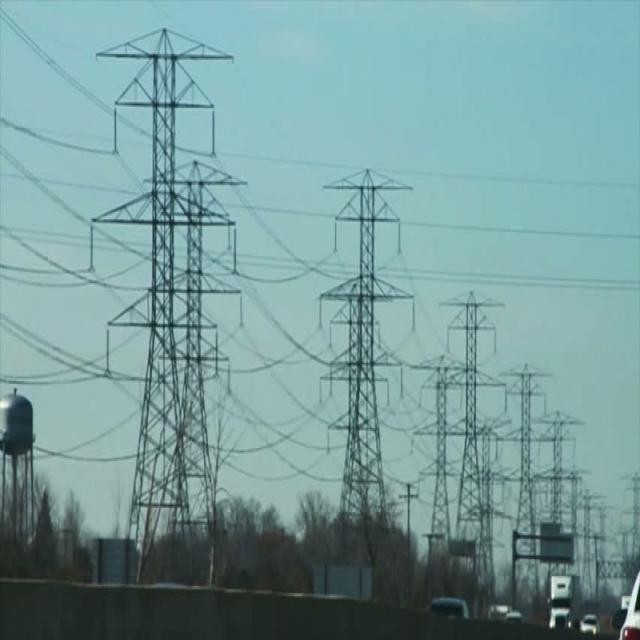non-critical vegetation: (94, 17, 230, 572), (321, 142, 414, 509), (439, 282, 504, 544)
